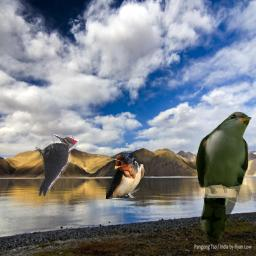Cuckoo: (195, 111, 252, 243)
Swallow: (106, 151, 145, 199)
Woodpecker: (35, 134, 79, 196)
